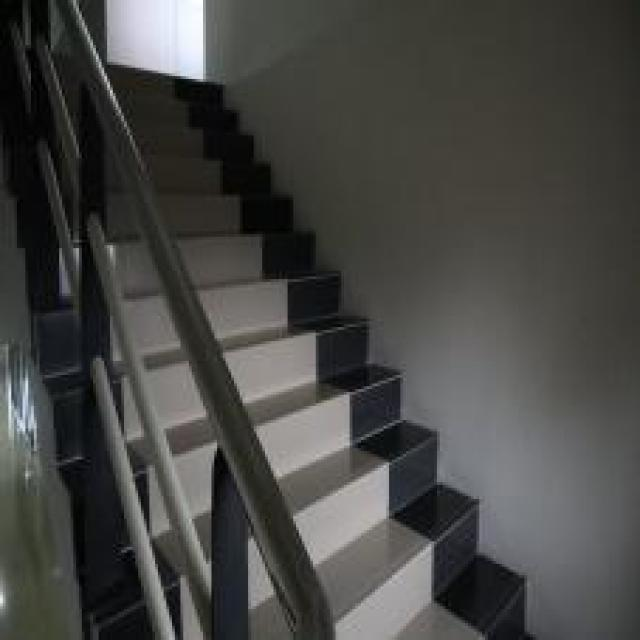upstair: (288, 303, 455, 638), (328, 382, 492, 638)
